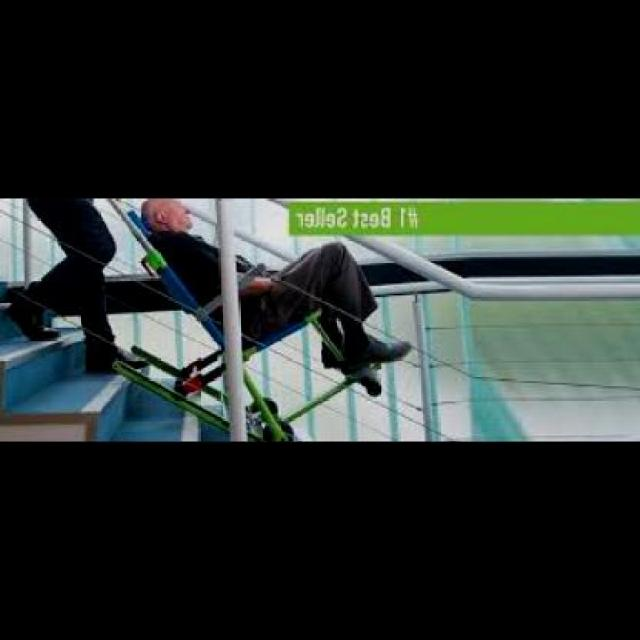wheelchairs: (122, 214, 386, 441)
